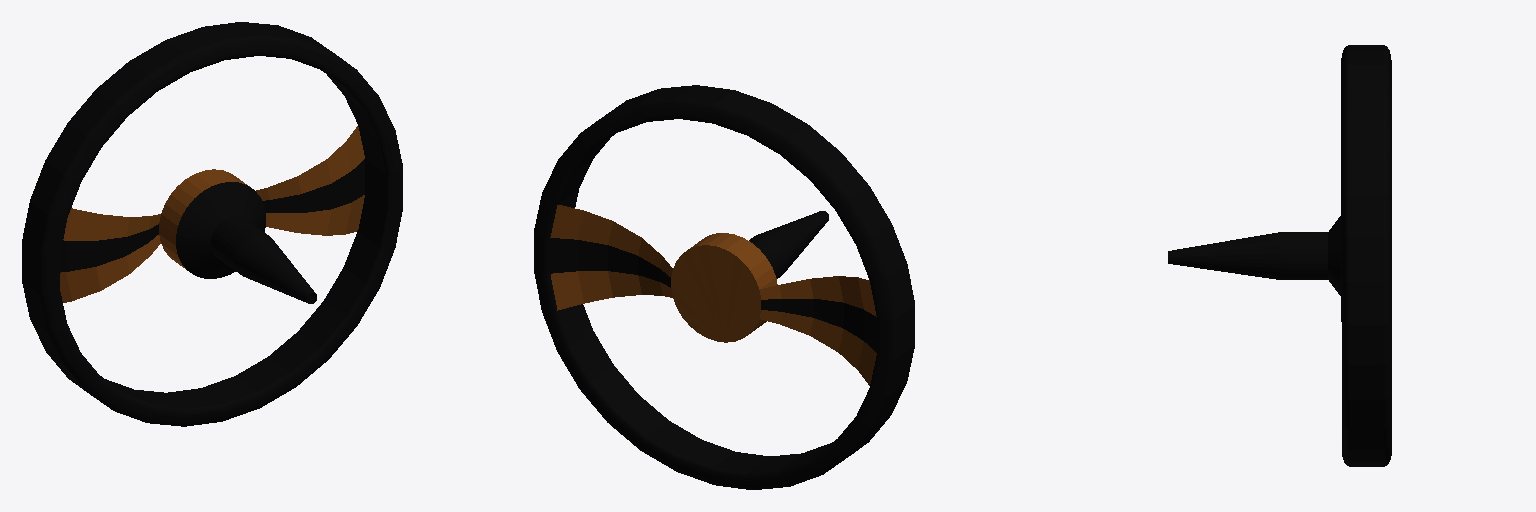
Rendered from steering_wheel.obj.
3 views of the same model, side by side, from view 1: azimuth 30°, elevation 25°; view 2: azimuth 150°, elevation 25°; view 3: azimuth 270°, elevation 25° (orthographic).
Visible parts, largest first — view 1: Cube.000_Cube.001; view 2: Cube.000_Cube.001; view 3: Cube.000_Cube.001.
Boxes of the visible parts, box(x1,y1,x2,y2) form: Cube.000_Cube.001: box(22, 22, 402, 426); Cube.000_Cube.001: box(534, 85, 914, 489); Cube.000_Cube.001: box(1168, 45, 1391, 466).
Size of the model in its own units: 1.04 by 1.05 by 0.5574.